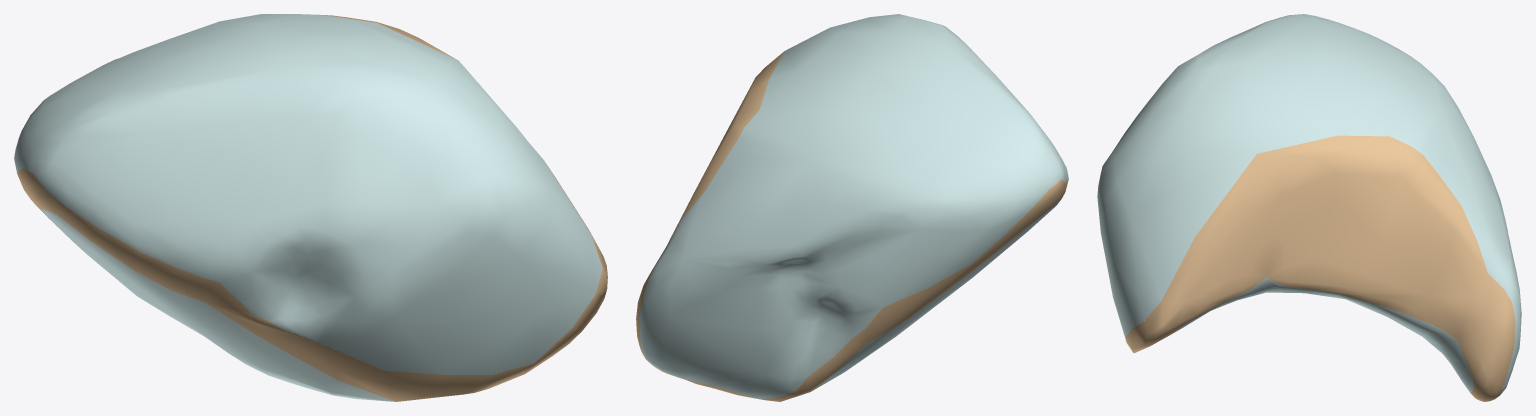
Rendered from Lunate_bone.l_Generated_Mesh_From_X3D.719.glb.
3 renders of one model, left to right at view 1: azimuth 30°, elevation 25°; view 2: azimuth 150°, elevation 25°; view 3: azimuth 270°, elevation 25°, orthographic. The views are drawn at different scales.
Parts seen in each view (by area): view 1: Lunate_bone.l_Generated_Mesh_From_X3D.719; view 2: Lunate_bone.l_Generated_Mesh_From_X3D.719; view 3: Lunate_bone.l_Generated_Mesh_From_X3D.719.
Boxes of the visible parts, bbox=[...] form: Lunate_bone.l_Generated_Mesh_From_X3D.719: bbox=[14, 14, 607, 401]; Lunate_bone.l_Generated_Mesh_From_X3D.719: bbox=[636, 14, 1068, 401]; Lunate_bone.l_Generated_Mesh_From_X3D.719: bbox=[1097, 14, 1521, 401].
Size of the model in its own units: 0.0171 by 0.0127 by 0.0166.
